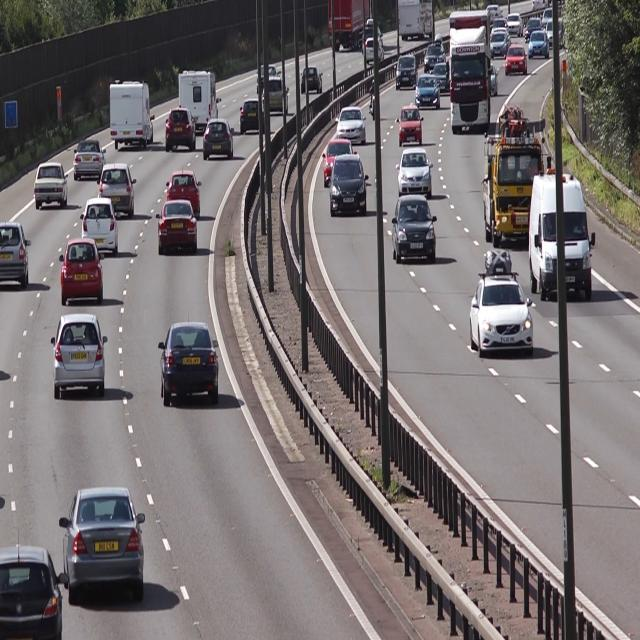Car: (58, 486, 146, 602), (0, 544, 66, 639), (468, 270, 534, 355), (157, 321, 219, 406), (50, 313, 108, 399), (0, 221, 30, 288)
Truck: (108, 79, 153, 150)
